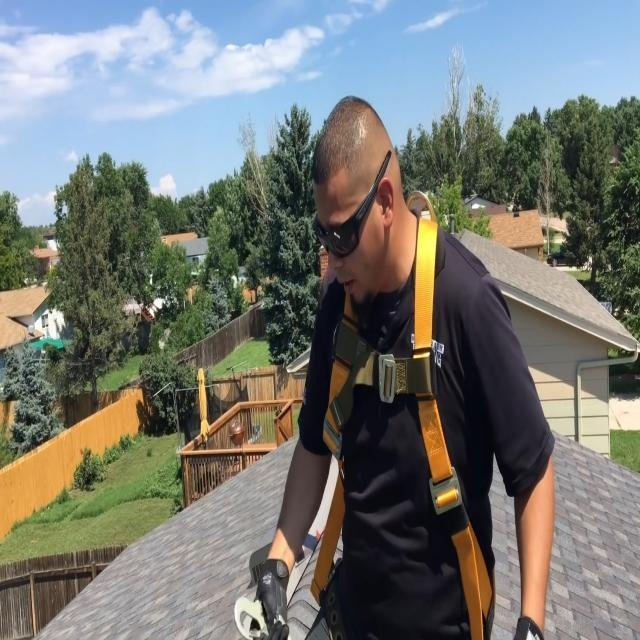Arnes_seguridad: (302, 192, 500, 640)
